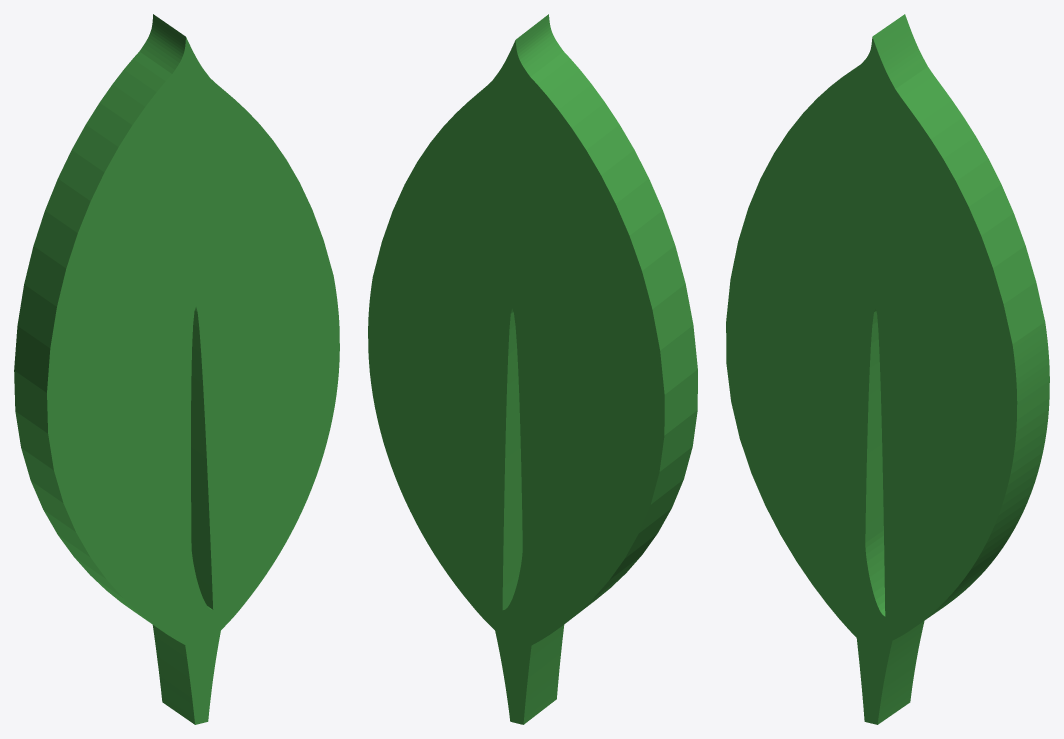
The model's file is Mongodb_mobile_model.glb.
3 renders of one model, left to right at view 1: azimuth 30°, elevation 25°; view 2: azimuth 150°, elevation 25°; view 3: azimuth 330°, elevation 25°, orthographic.
Parts seen in each view (by area): view 1: Curve; view 2: Curve; view 3: Curve.
Part boxes in pixels (<box>): Curve: <box>14,14,339,724</box>; Curve: <box>368,14,697,724</box>; Curve: <box>726,14,1049,724</box>.
Bounding box in the file's own units: 0.00304 × 0.00678 × 0.000743.
